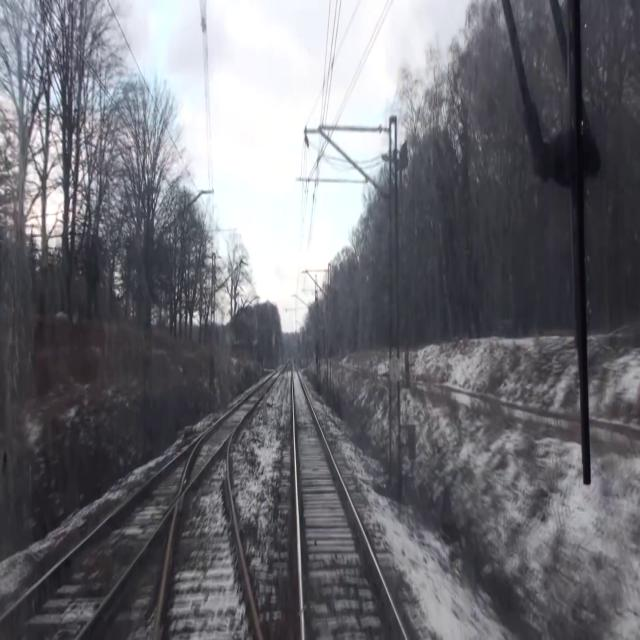rail-track: (0, 450, 189, 639), (293, 367, 403, 639), (158, 446, 258, 639), (185, 380, 271, 484)
